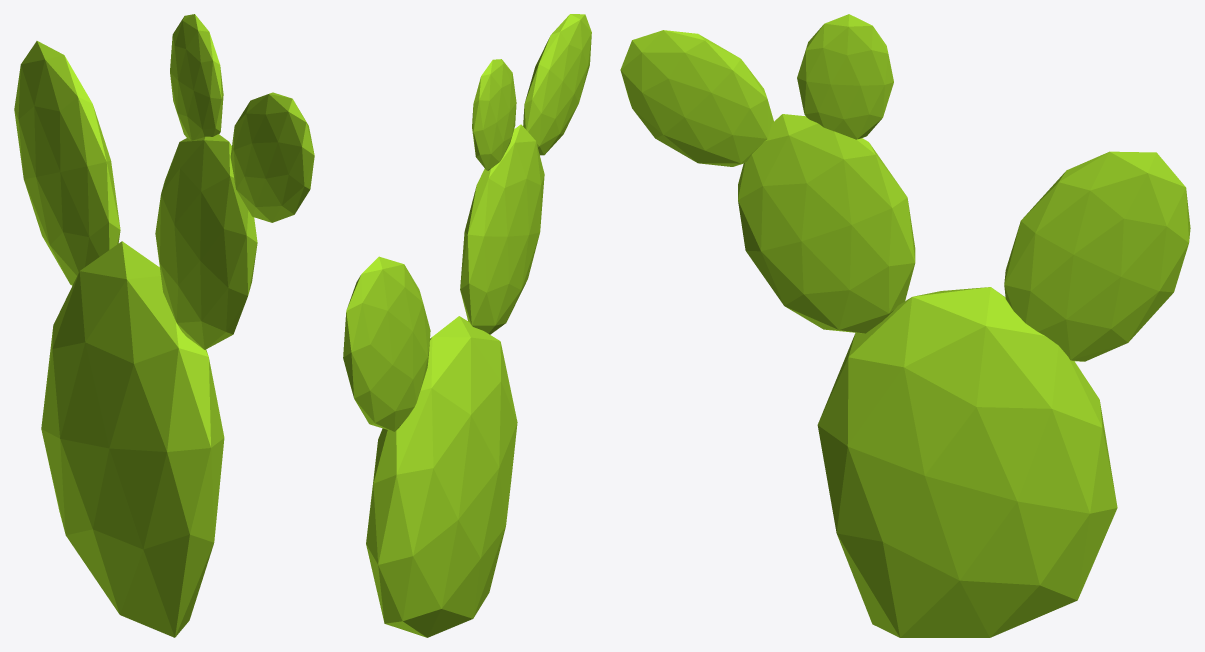
File: cactus-c.glb
3 renders of one model, left to right at view 1: azimuth 30°, elevation 25°; view 2: azimuth 150°, elevation 25°; view 3: azimuth 270°, elevation 25°, orthographic. The views are drawn at different scales.
Visible parts, largest first — view 1: Cactus C; view 2: Cactus C; view 3: Cactus C.
Part boxes in pixels (x1,y1,x2,y2): Cactus C: (14,14,314,637); Cactus C: (343,14,591,637); Cactus C: (620,14,1190,637).
Size of the model in its own units: 0.2447 by 1.58 by 1.33.
